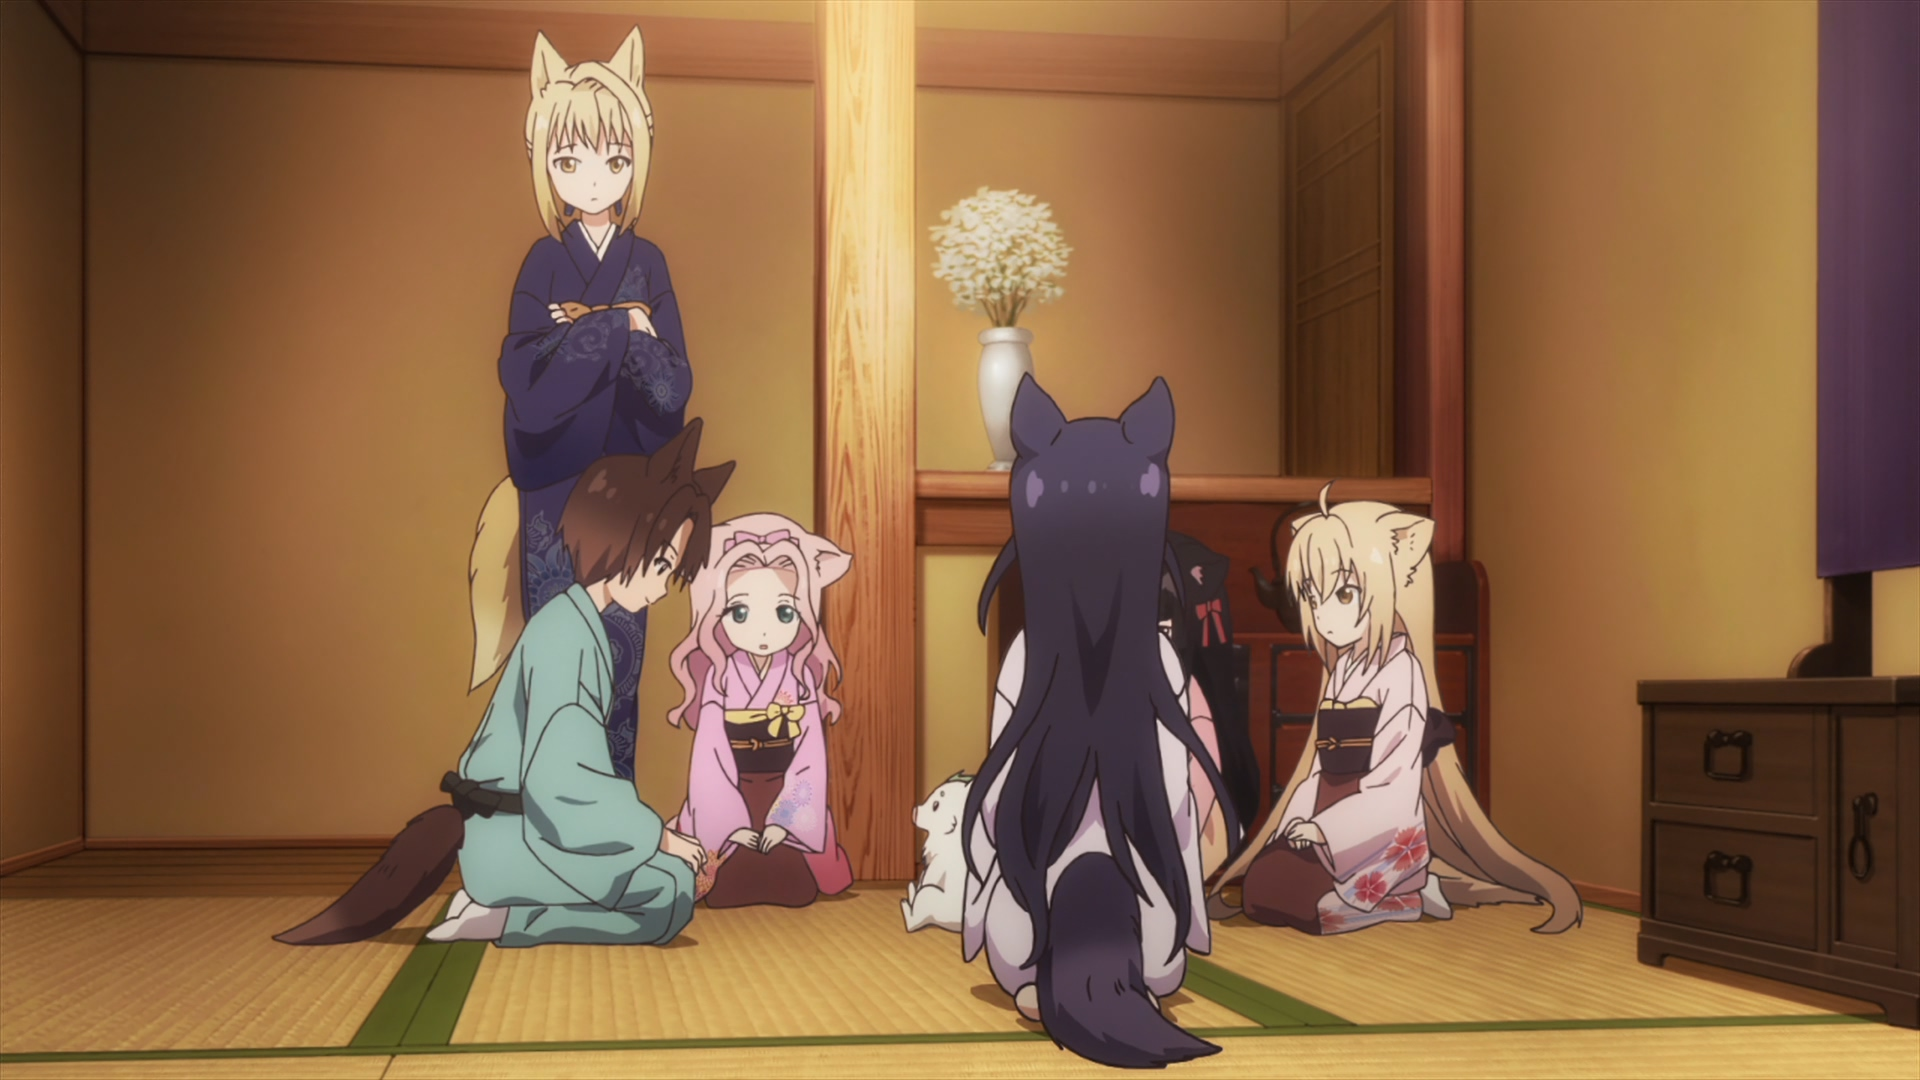枣: (277, 419, 736, 952)
柚: (1211, 485, 1589, 939)
桐: (469, 32, 698, 787)
瓜之介: (905, 767, 977, 936)
皋: (963, 377, 1241, 1063)
莲: (669, 516, 857, 913)
